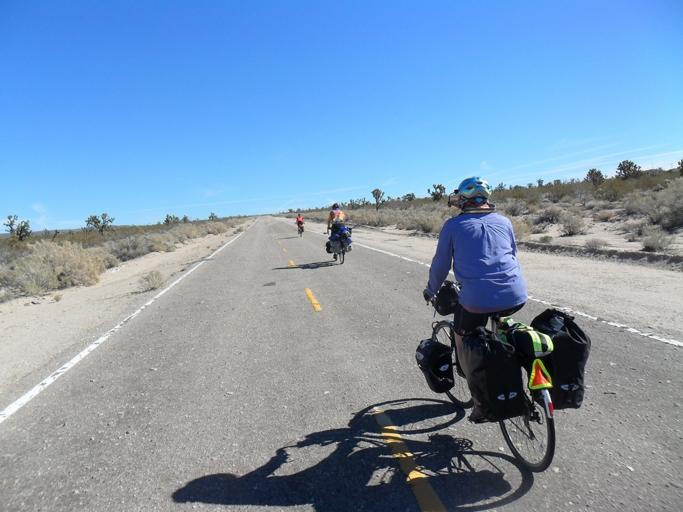non-vehicle: (421, 276, 557, 473), (323, 226, 345, 264), (294, 222, 304, 235)
